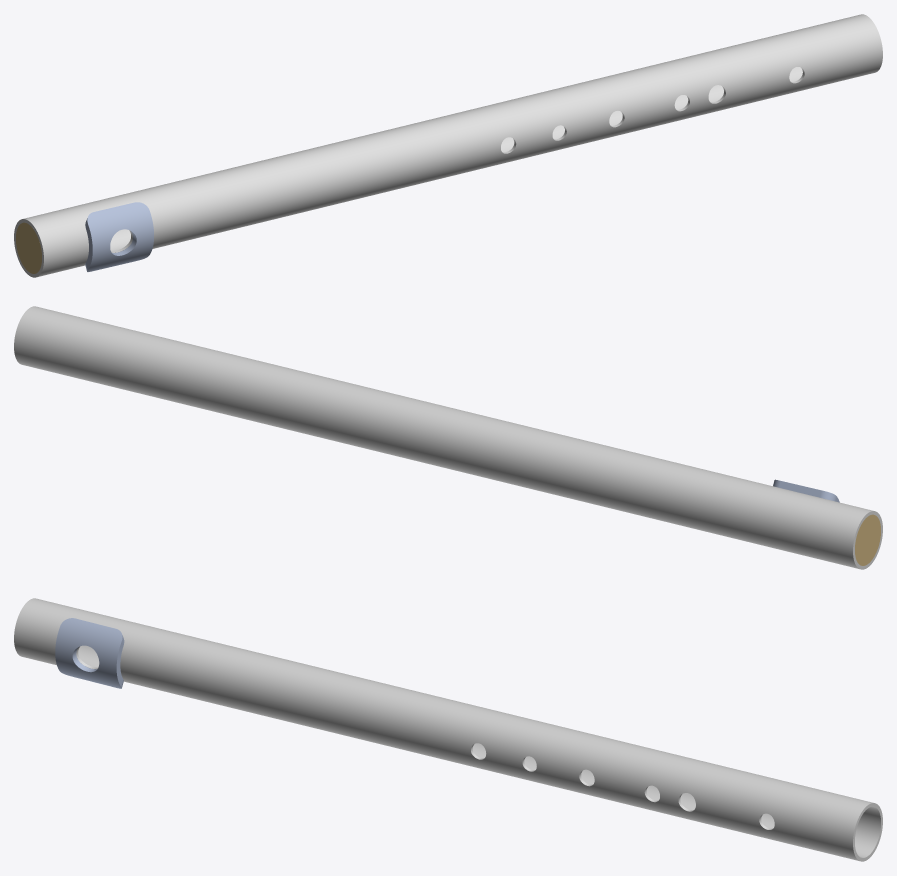
File: flute.gltf
3 renders of one model, top to bottom at view 1: azimuth 30°, elevation 25°; view 2: azimuth 150°, elevation 25°; view 3: azimuth 330°, elevation 25°, orthographic.
Parts seen in each view (by area): view 1: Part 1 (×3); view 2: Part 1 (×3); view 3: Part 1 (×2).
Boxes of the visible parts, x1,y1,x2,y2 form: Part 1 (×3): [14, 14, 882, 277]; Part 1 (×3): [14, 306, 882, 569]; Part 1 (×2): [14, 598, 882, 861].
Size of the model in its own units: 0.41 by 0.0277 by 0.0286.
